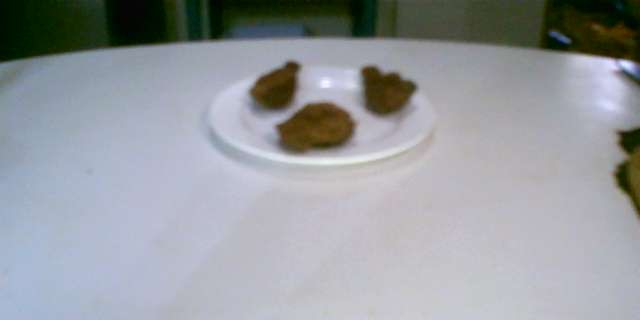chicken: (271, 97, 359, 156), (357, 58, 421, 118), (245, 57, 304, 112)
